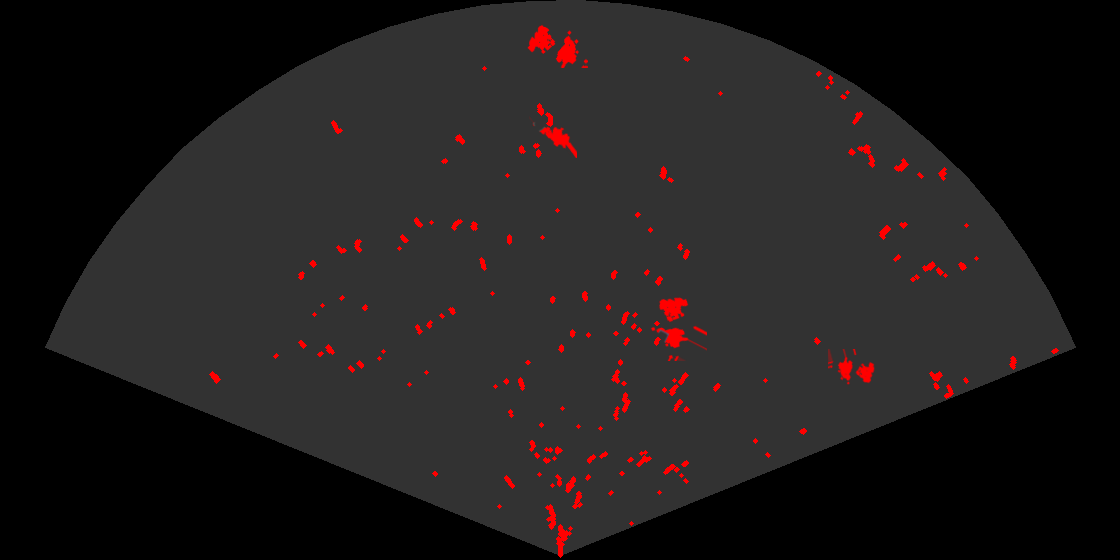cage: (649, 296, 707, 361), (526, 23, 588, 68), (828, 349, 876, 386)
frogman: (529, 115, 577, 158)
